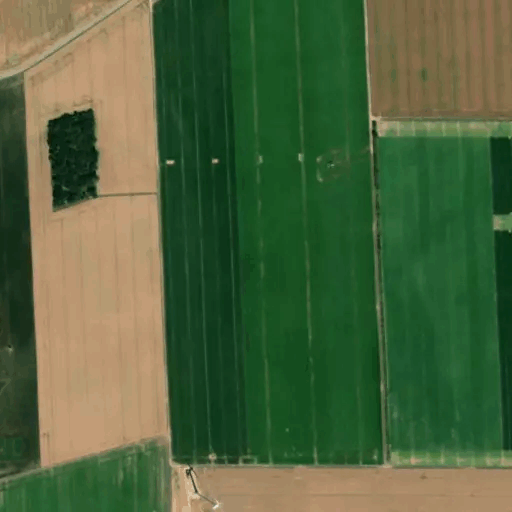wt: (172, 453, 229, 512)
